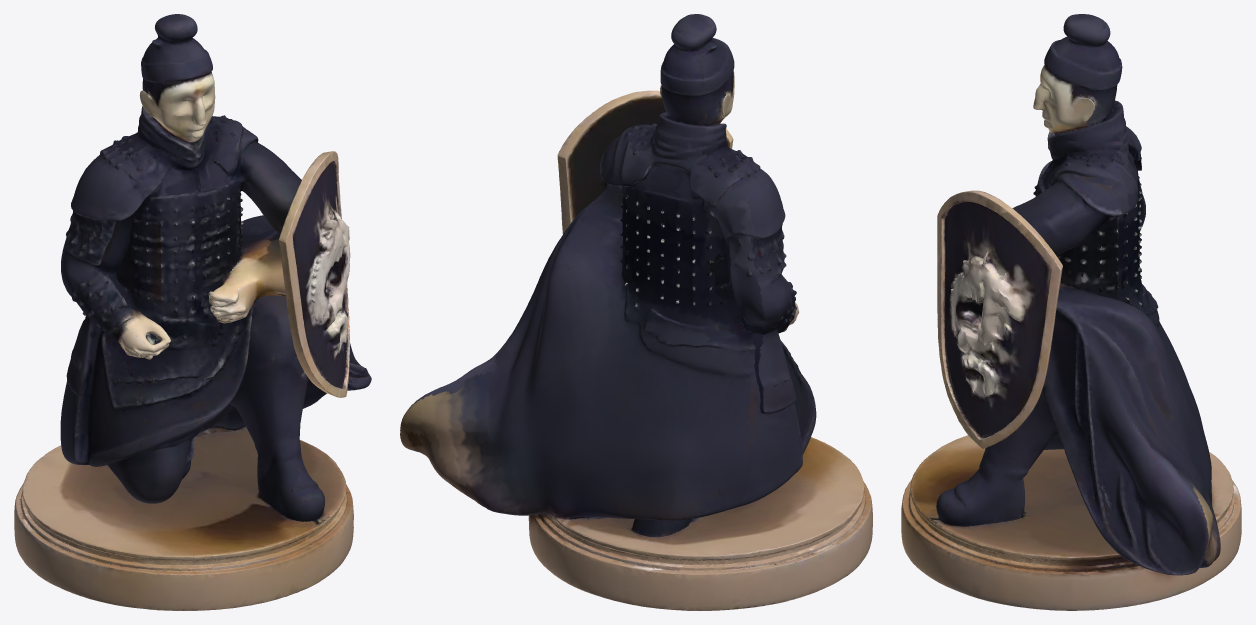
File: pawn_black.glb
The picture shows the model from 3 angles, left to right: view 1: azimuth 30°, elevation 25°; view 2: azimuth 150°, elevation 25°; view 3: azimuth 270°, elevation 25°; orthographic projection.
Parts seen in each view (by area): view 1: model; view 2: model; view 3: model.
Part boxes in pixels (bbox=[...]): model: bbox=[14, 14, 371, 610]; model: bbox=[400, 14, 872, 610]; model: bbox=[901, 14, 1241, 610].
Size of the model in its own units: 1.45 by 1.9 by 1.12.
1 material, 1 textured.
